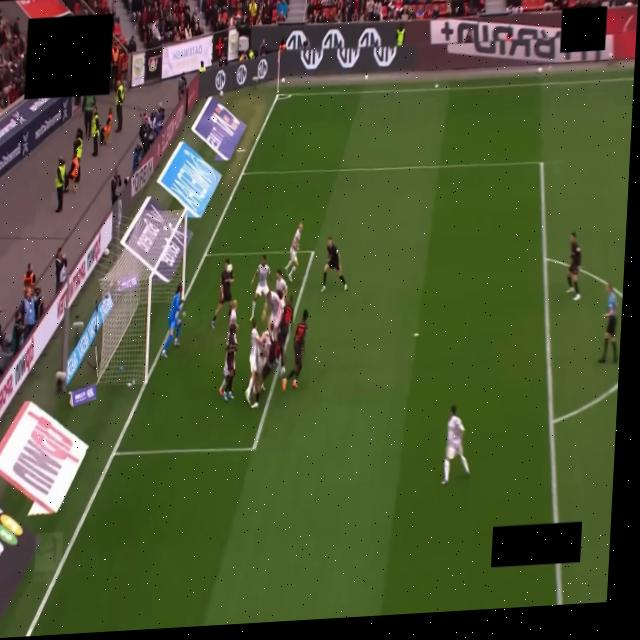ball: (226, 264, 231, 273)
player: (442, 406, 468, 484), (282, 310, 307, 390), (251, 325, 275, 408), (210, 259, 233, 328), (161, 284, 182, 356), (321, 237, 346, 291), (245, 319, 260, 405), (276, 295, 292, 375), (250, 256, 270, 320), (284, 222, 301, 282), (566, 232, 581, 300), (223, 325, 236, 400), (262, 291, 283, 326), (274, 270, 287, 296), (229, 301, 237, 333), (229, 300, 237, 329)
referee: (598, 284, 617, 362)
